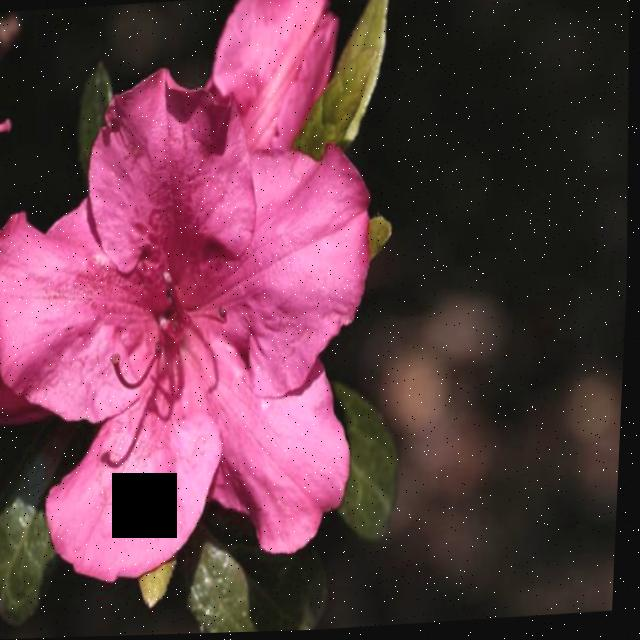azalea: (24, 102, 387, 581)
